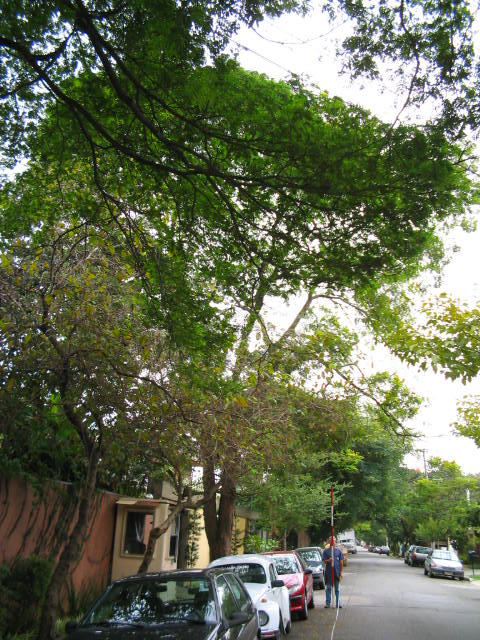crown: (37, 59, 476, 392)
stem: (197, 518, 248, 605)
stick: (324, 485, 344, 610)
tree: (35, 56, 480, 610)
